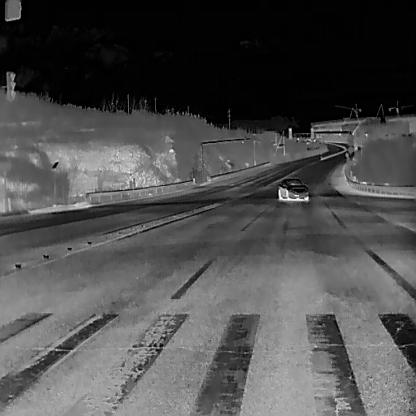car: (278, 177, 309, 201)
truck: (352, 142, 357, 150), (322, 138, 326, 142)
